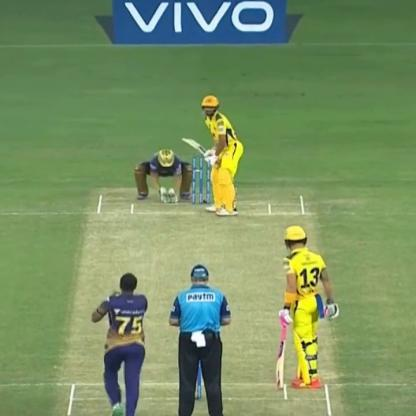bat: (179, 138, 213, 164)
pitch: (74, 188, 344, 415)
